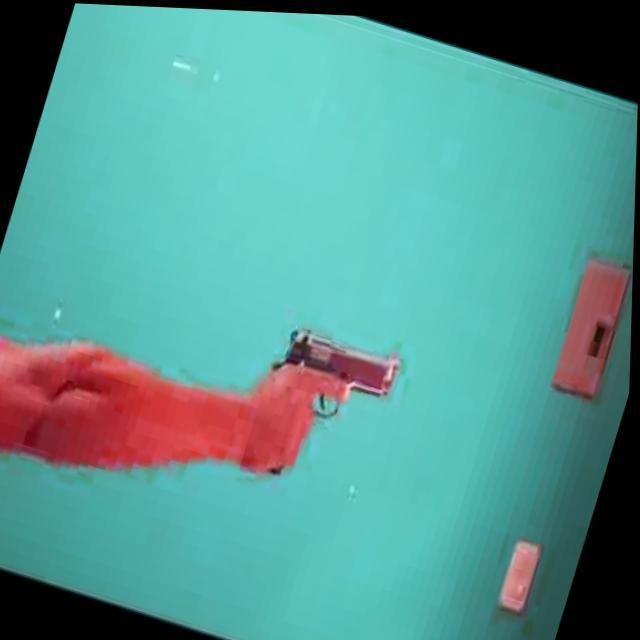weapon: (233, 312, 408, 509)
